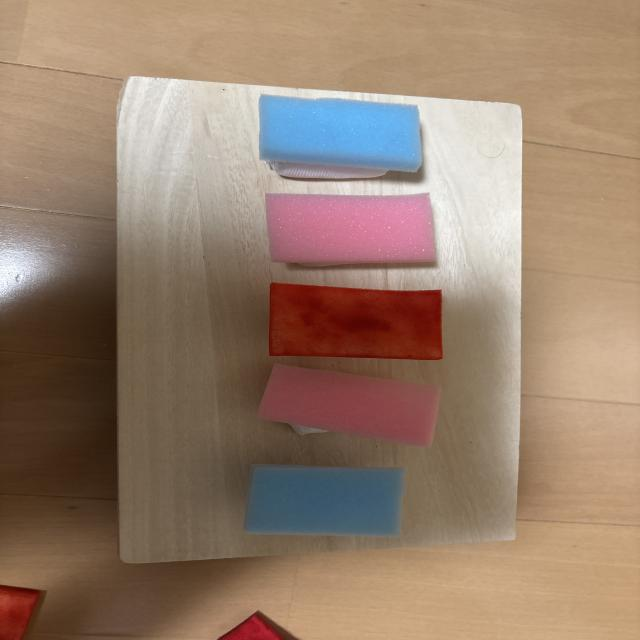NG: (259, 94, 422, 179)
ika: (243, 464, 404, 537)
salmon: (269, 283, 442, 360)
tai: (258, 364, 440, 446), (265, 193, 436, 266)
